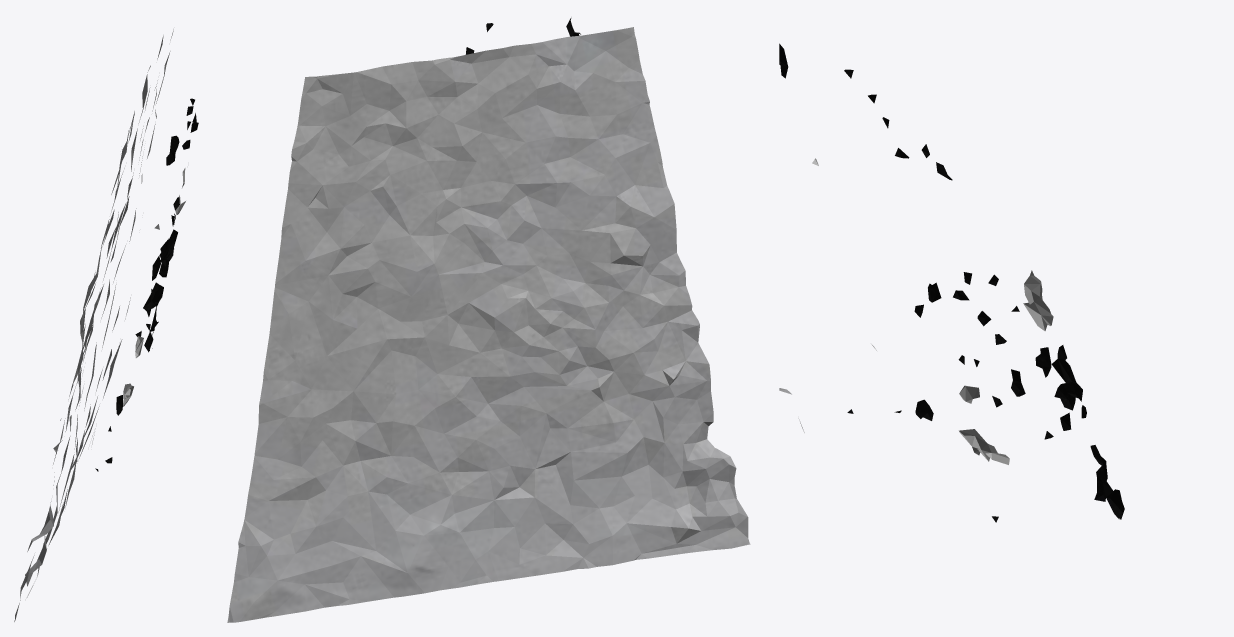
3 views of the same model, side by side, from view 1: azimuth 30°, elevation 25°; view 2: azimuth 150°, elevation 25°; view 3: azimuth 270°, elevation 25° (orthographic). The views are drawn at different scales.
Bounding box in the file's own units: 0.5591 × 0.8373 × 0.6556.
2 materials, 2 textured.
